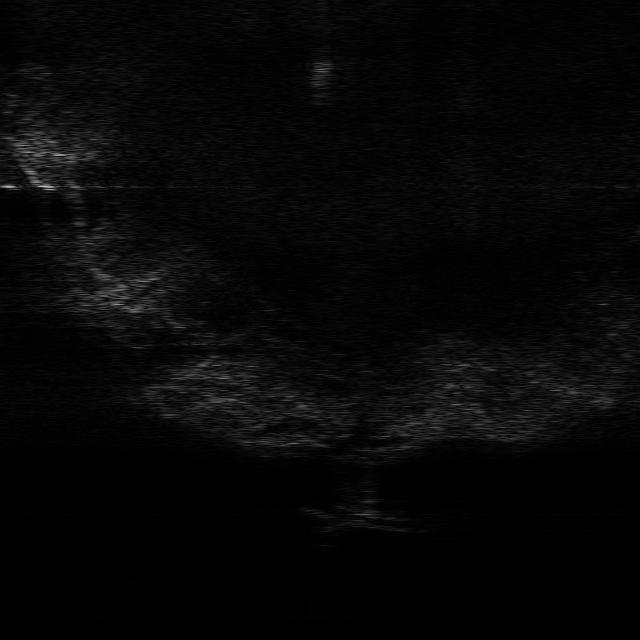plane: (300, 505, 412, 534)
